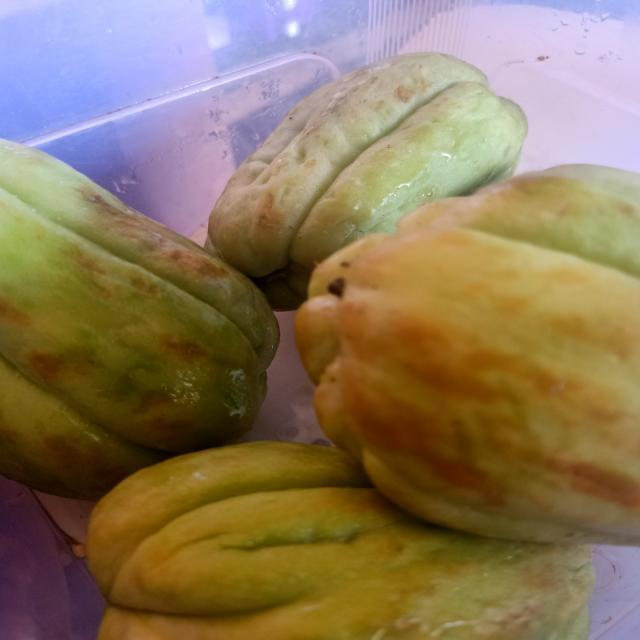Chayote: (296, 164, 640, 545), (1, 133, 283, 512), (86, 443, 594, 640), (207, 52, 527, 310)
